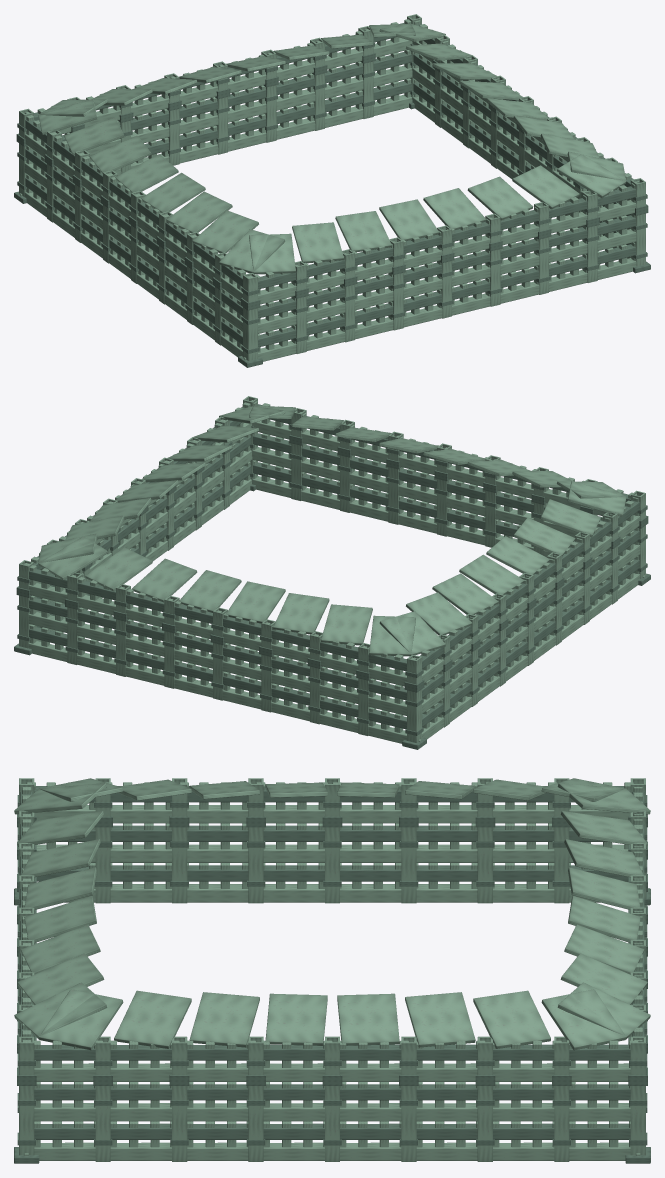
The picture shows the model from 3 angles, top to bottom: view 1: azimuth 30°, elevation 25°; view 2: azimuth 150°, elevation 25°; view 3: azimuth 270°, elevation 25°; orthographic projection. The views are drawn at different scales.
Parts seen in each view (by area): view 1: Crown alloy petal 0-1, Crown alloy petal 0-2, Crown alloy petal 0-3, Crown alloy petal 0-4, Crown alloy petal 3-6, Crown alloy petal 0-5, Crown alloy petal 0-6, Crown alloy petal 3-5, Crown alloy petal 3-4, Crown alloy petal 0-0, Crown alloy petal 3-3, Crown alloy petal 3-7 (+32 smaller); view 2: Crown alloy petal 2-6, Crown alloy petal 2-5, Crown alloy petal 2-4, Crown alloy petal 2-3, Crown alloy petal 3-1, Crown alloy petal 2-1, Crown alloy petal 2-2, Crown alloy petal 3-2, Crown alloy petal 3-3, Crown alloy petal 2-7, Crown alloy petal 3-4, Crown alloy petal 3-0 (+33 smaller); view 3: Crown alloy petal 1-6, Crown alloy petal 1-1, Crown alloy petal 1-5, Crown alloy petal 1-2, Crown alloy petal 1-3, Crown alloy petal 1-4, Crown alloy petal 1-7, Crown alloy petal 1-0, Crown alloy petal 0-6, Crown alloy petal 2-1, Crown alloy petal 2-2, Crown alloy petal 0-5 (+116 smaller).
Boxes of the visible parts, box(x1,y1,x2,y2) form: Crown alloy petal 0-1: box(292, 222, 343, 263); Crown alloy petal 0-2: box(335, 211, 391, 252); Crown alloy petal 0-3: box(379, 199, 439, 240); Crown alloy petal 0-4: box(423, 188, 486, 229); Crown alloy petal 3-6: box(192, 210, 258, 253); Crown alloy petal 0-5: box(467, 176, 533, 220); Crown alloy petal 0-6: box(512, 165, 579, 209); Crown alloy petal 3-5: box(166, 191, 232, 232); Crown alloy petal 3-4: box(141, 172, 205, 212); Crown alloy petal 0-0: box(249, 233, 295, 274); Crown alloy petal 3-3: box(115, 154, 178, 192); Crown alloy petal 3-7: box(219, 229, 285, 273); Crown alloy petal 2-6: box(321, 604, 372, 645); Crown alloy petal 2-5: box(273, 593, 329, 634); Crown alloy petal 2-4: box(226, 581, 285, 623); Crown alloy petal 2-3: box(178, 570, 241, 612); Crown alloy petal 3-1: box(406, 592, 472, 635); Crown alloy petal 2-1: box(85, 547, 152, 591); Crown alloy petal 2-2: box(132, 558, 197, 602); Crown alloy petal 3-2: box(432, 573, 498, 614); Crown alloy petal 3-3: box(459, 554, 524, 594); Crown alloy petal 2-7: box(369, 615, 415, 656); Crown alloy petal 3-4: box(486, 536, 549, 574); Crown alloy petal 3-0: box(379, 611, 445, 655); Crown alloy petal 1-6: box(473, 990, 550, 1048); Crown alloy petal 1-1: box(114, 990, 191, 1048); Crown alloy petal 1-5: box(405, 992, 475, 1047); Crown alloy petal 1-2: box(189, 992, 259, 1047); Crown alloy petal 1-3: box(265, 993, 327, 1045); Crown alloy petal 1-4: box(337, 993, 399, 1045); Crown alloy petal 1-7: box(541, 989, 626, 1050); Crown alloy petal 1-0: box(39, 989, 123, 1050); Crown alloy petal 0-6: box(17, 953, 104, 1004); Crown alloy petal 2-1: box(560, 953, 647, 1004); Crown alloy petal 2-2: box(564, 924, 644, 974); Crown alloy petal 0-5: box(20, 924, 100, 974).
Size of the model in its own units: 3.75 by 0.8829 by 3.75.
Materials: 2 (2 with a texture image).
